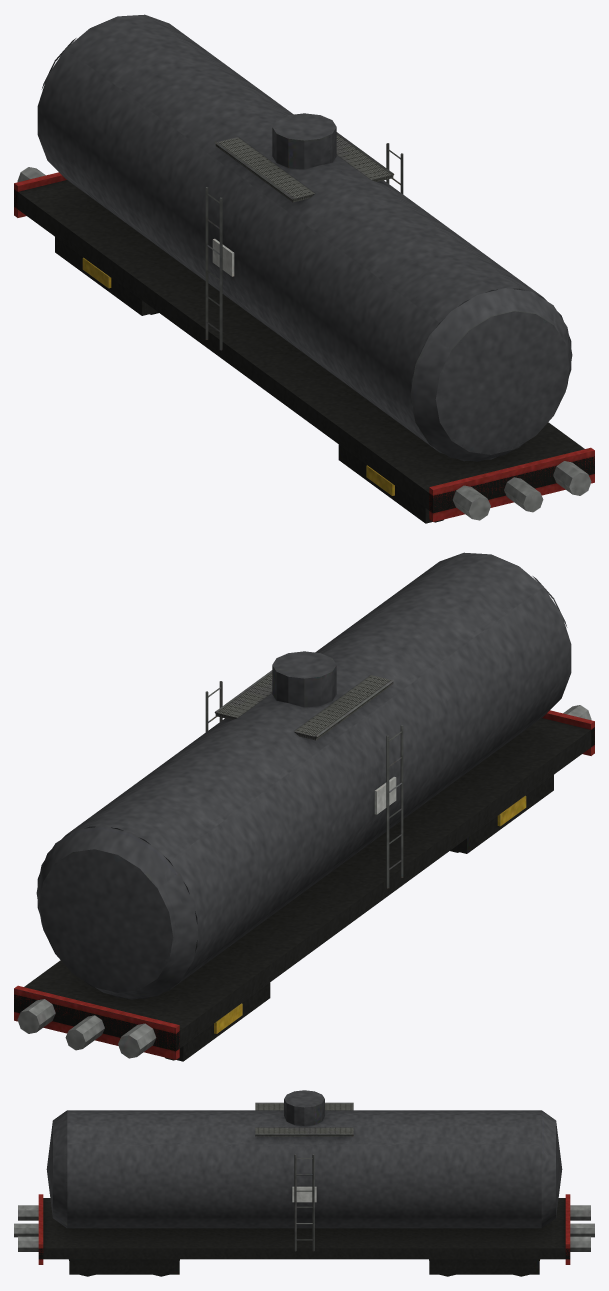
The model's file is tank_car.glb.
3 views of the same model, one above another, from view 1: azimuth 30°, elevation 25°; view 2: azimuth 150°, elevation 25°; view 3: azimuth 270°, elevation 25° (orthographic). The views are drawn at different scales.
Visible parts, largest first — view 1: tank_car; view 2: tank_car; view 3: tank_car.
Boxes of the visible parts, box(x1,y1,x2,y2) form: tank_car: box(14, 14, 594, 523); tank_car: box(14, 552, 594, 1061); tank_car: box(14, 1090, 594, 1276).
Bounding box in the file's own units: 3.29 × 4.4 × 14.2.
Materials: 1 (1 with a texture image).
